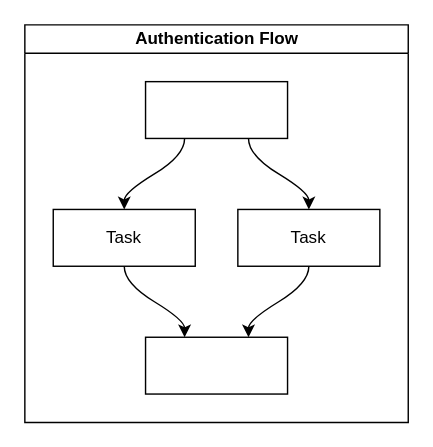
The diagram is 433 pixels wide and 447 high, and some of its shapes have lost their labels. The centre of each missing label's shape, as x and y in pixels:
"End" goes at (216,365).
"Login" goes at (216,109).
